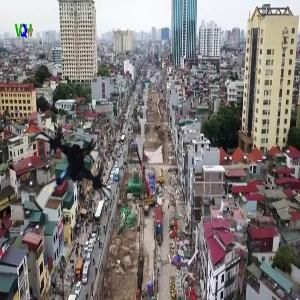drone: (17, 125, 123, 231)
